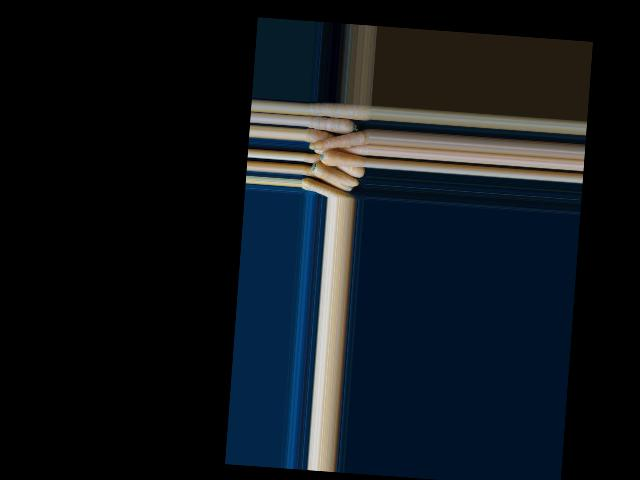carrot: (306, 102, 369, 120)
